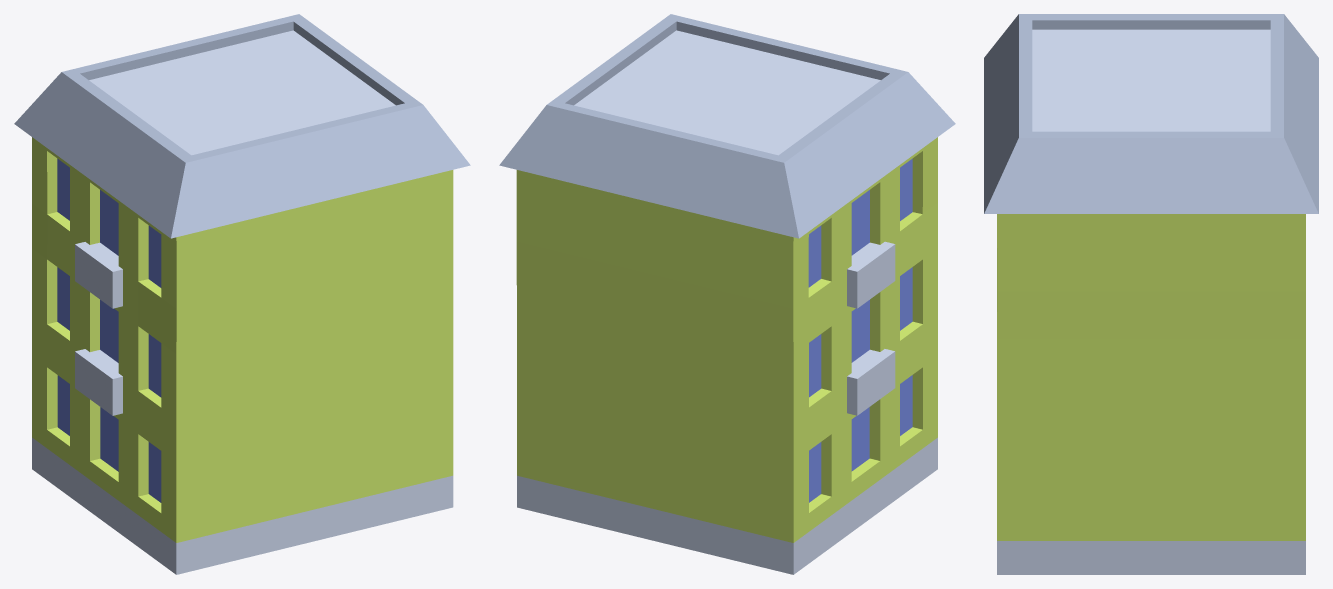
The model's file is House 6.fbx.
The picture shows the model from 3 angles, left to right: view 1: azimuth 30°, elevation 25°; view 2: azimuth 150°, elevation 25°; view 3: azimuth 270°, elevation 25°; orthographic projection. The views are drawn at different scales.
Parts seen in each view (by area): view 1: house 6; view 2: house 6; view 3: house 6.
Part boxes in pixels (x1,y1,x2,y2): house 6: (14,14,470,574); house 6: (499,14,955,574); house 6: (984,14,1318,574).
Bounding box in the file's own units: 1214 × 1547 × 1099.
1 material, 1 textured.
